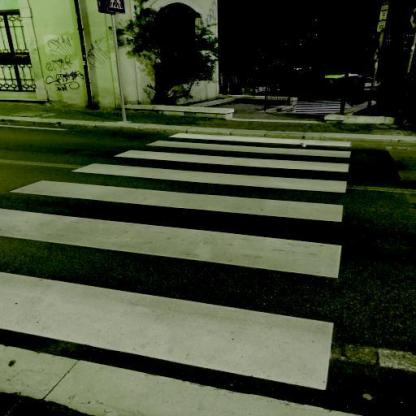crosswalk: (6, 160, 354, 226)
